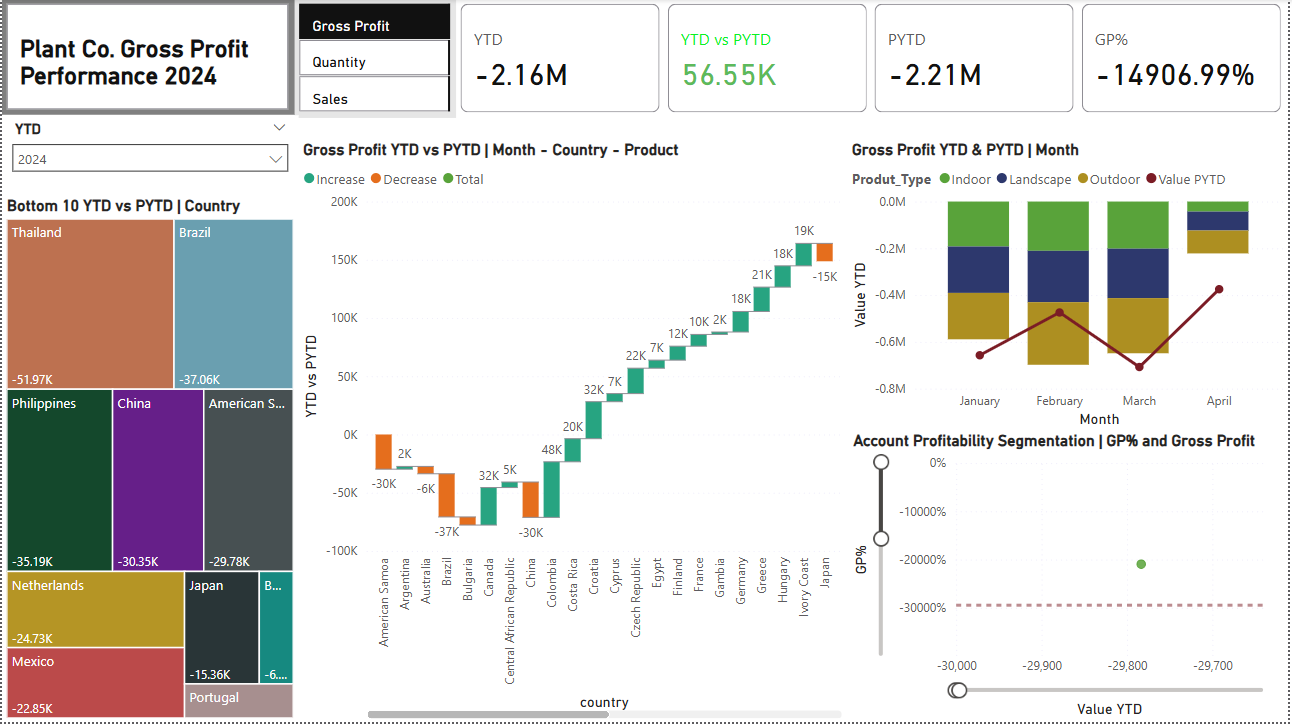

This screenshot's page, from the dashboard's own definition file:
{"tool":"powerbi","page":{"name":"Page 1","canvas":[1280,720],"ordinal":0},"visuals":[{"type":"cardVisual","fields":{"Data":["_Measures.S_YTD","_Measures.YTD vs PYTD","_Measures.S_PYTD","_Measures.GP%"]},"box":[451.5,0,828.8,118],"z":0},{"type":"advancedSlicerVisual","fields":{"Values":["Slc_Values.Values"]},"box":[290.9,0,160.5,118],"z":1},{"type":"slicer","fields":{"Values":["Dim_Date.Date.Variation.Date Hierarchy.Year"]},"box":[0,115.3,295,81],"z":3},{"type":"treemap","title":"Bottom 10 YTD vs PYTD | Country","fields":{"Group":["Dim_Account.country"],"Values":["_Measures.YTD vs PYTD"]},"box":[0,196.2,295,524.2],"z":4},{"type":"waterfallChart","fields":{"Y":["_Measures.YTD vs PYTD"],"Category":["Dim_Date.Date.Variation.Date Hierarchy.Month","Dim_Account.country","Dim_Product.Produt_Type","Dim_Product.Product_Name"]},"box":[295,140,546.1,580.4],"z":5},{"type":"lineStackedColumnComboChart","fields":{"Y":["_Measures.S_YTD"],"Y2":["_Measures.S_PYTD"],"Category":["Dim_Date.Date.Variation.Date Hierarchy.Quarter","Dim_Date.Date.Variation.Date Hierarchy.Month"],"Series":["Dim_Product.Produt_Type"]},"box":[841.2,140,439.1,290.9],"z":6},{"type":"scatterChart","fields":{"Y":["_Measures.GP%"],"X":["_Measures.S_YTD"],"Category":["Dim_Account.Account"]},"box":[842,431,438,289],"z":7},{"type":"cardVisual","fields":{"Data":["_Measures._Report title"]},"box":[0,0,290.9,115.3],"z":8}]}

Visuals, with their boxes in screenshot pixels (x1, y1, x2, y2), scaled from the page's 1280x720 canvas onto the 1292x727 screenshot:
cardVisual - _Measures.S_YTD x _Measures.YTD vs PYTD: {"x1": 456, "y1": 0, "x2": 1291, "y2": 119}
advancedSlicerVisual - Slc_Values.Values: {"x1": 294, "y1": 0, "x2": 456, "y2": 119}
slicer - Dim_Date.Date.Variation.Date Hierarchy.Year: {"x1": 0, "y1": 116, "x2": 298, "y2": 198}
"Bottom 10 YTD vs PYTD | Country" treemap: {"x1": 0, "y1": 198, "x2": 298, "y2": 726}
waterfallChart - _Measures.YTD vs PYTD x Dim_Date.Date.Variation.Date Hierarchy.Month: {"x1": 298, "y1": 141, "x2": 849, "y2": 726}
lineStackedColumnComboChart - _Measures.S_YTD x _Measures.S_PYTD: {"x1": 849, "y1": 141, "x2": 1291, "y2": 435}
scatterChart - _Measures.GP% x _Measures.S_YTD: {"x1": 850, "y1": 435, "x2": 1291, "y2": 726}
cardVisual - _Measures._Report title: {"x1": 0, "y1": 0, "x2": 294, "y2": 116}
